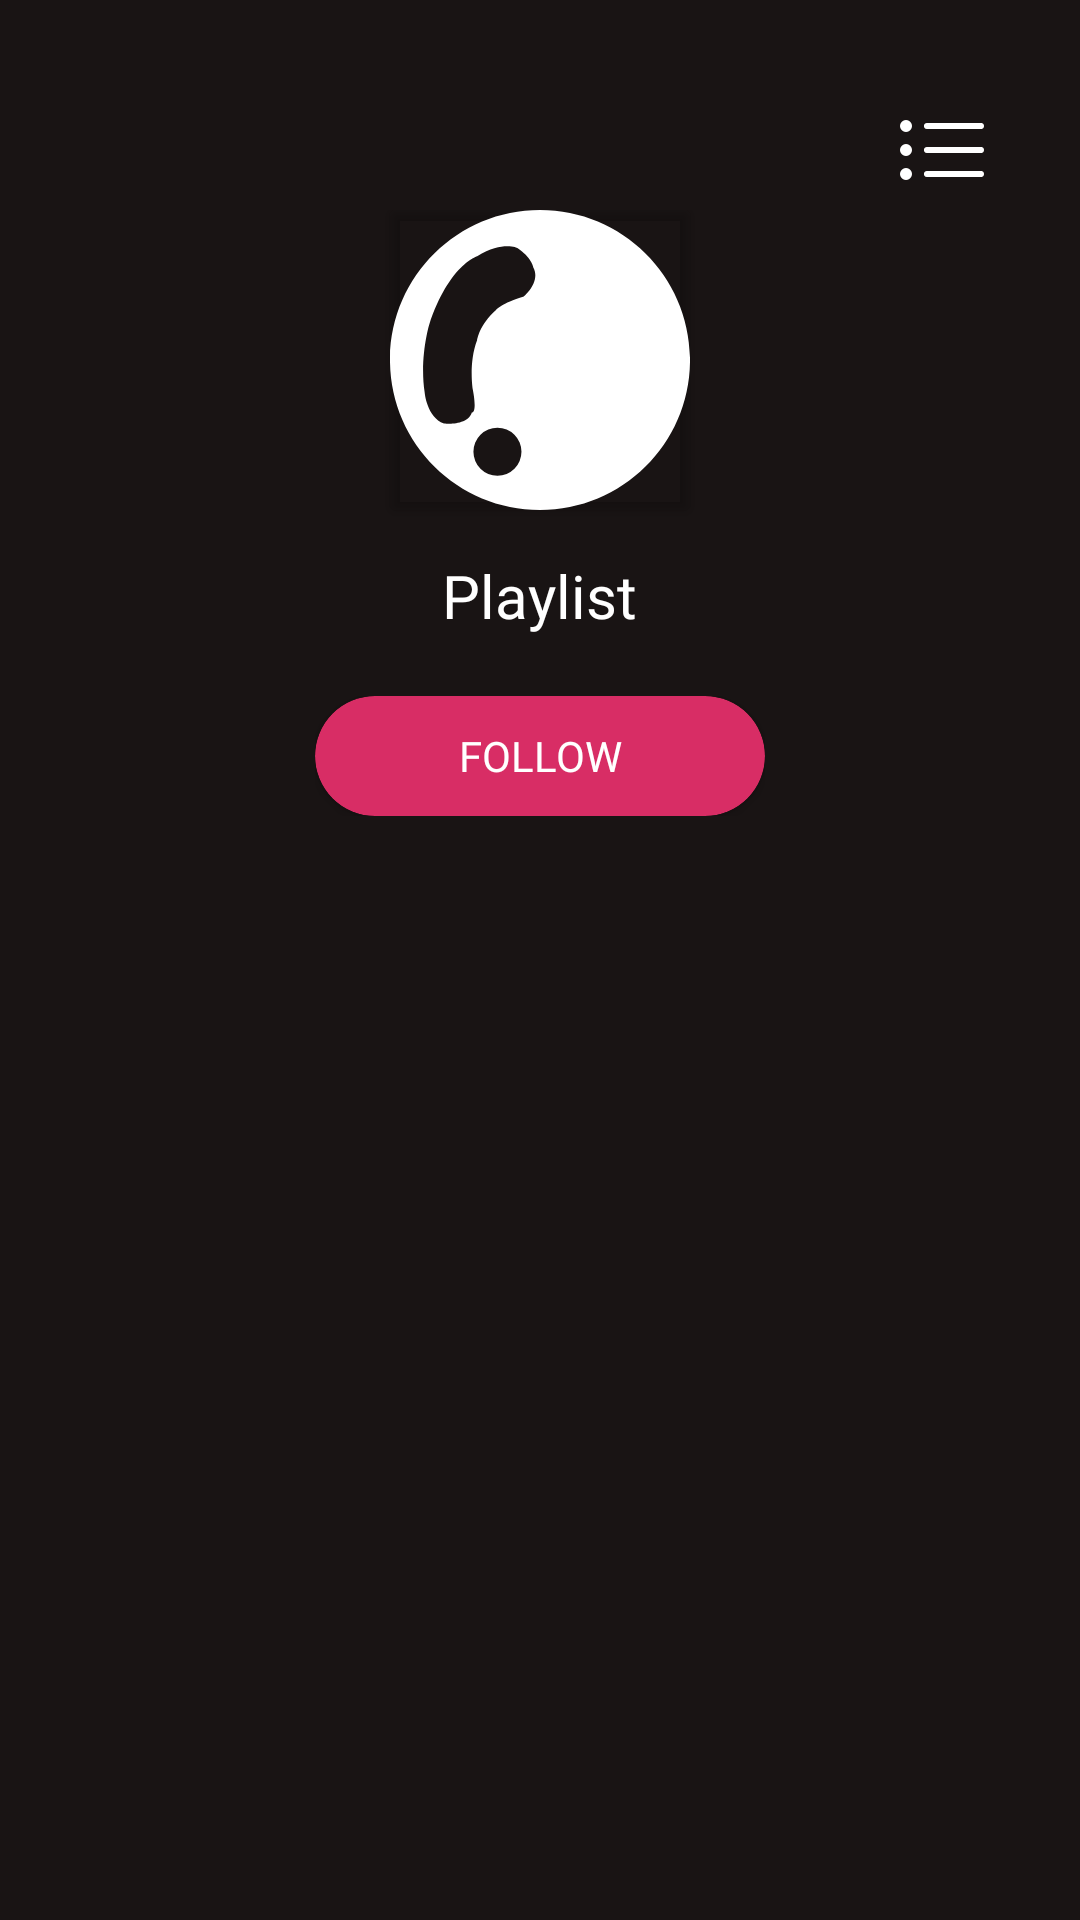

Named icons in this screenshot (1080×1920) and their centers, (x=x, y=y):
queue: (x=942, y=150)
